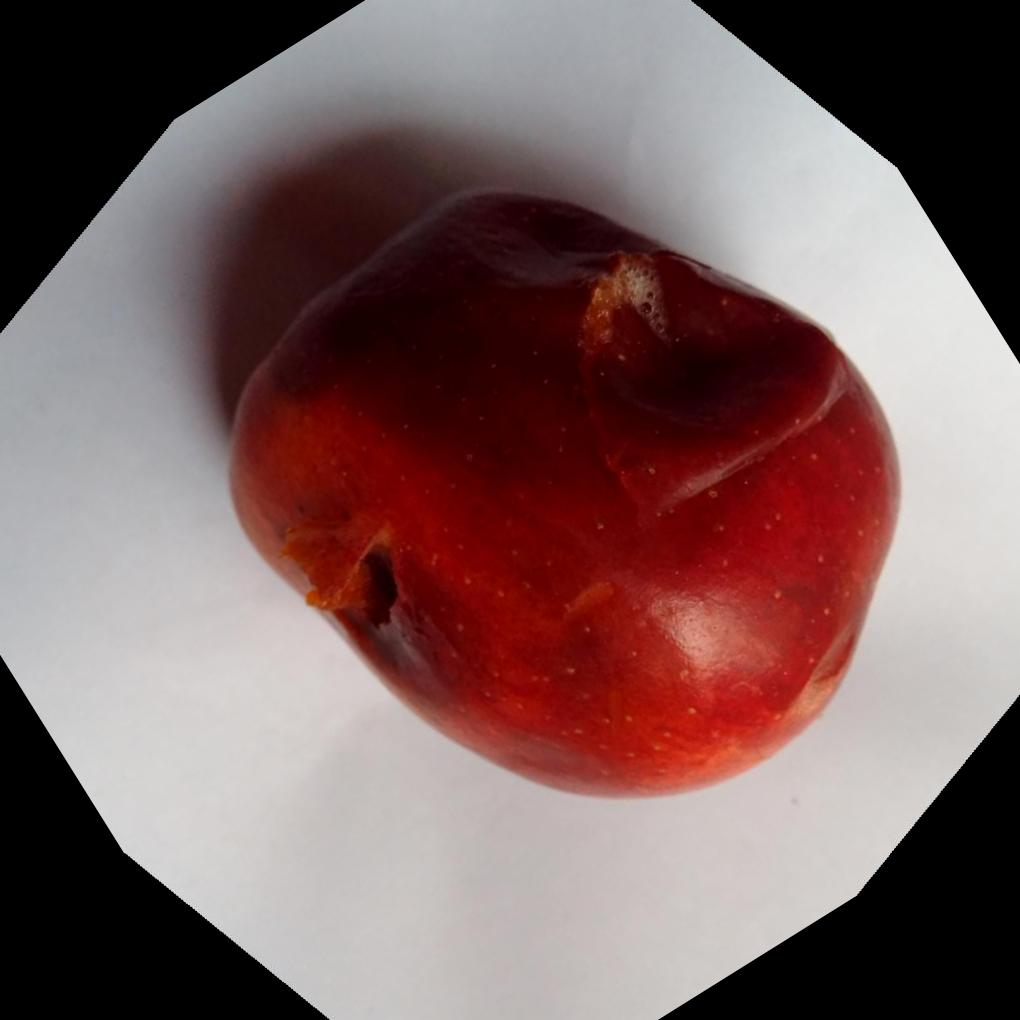FreshOrange: (222, 186, 901, 802)
